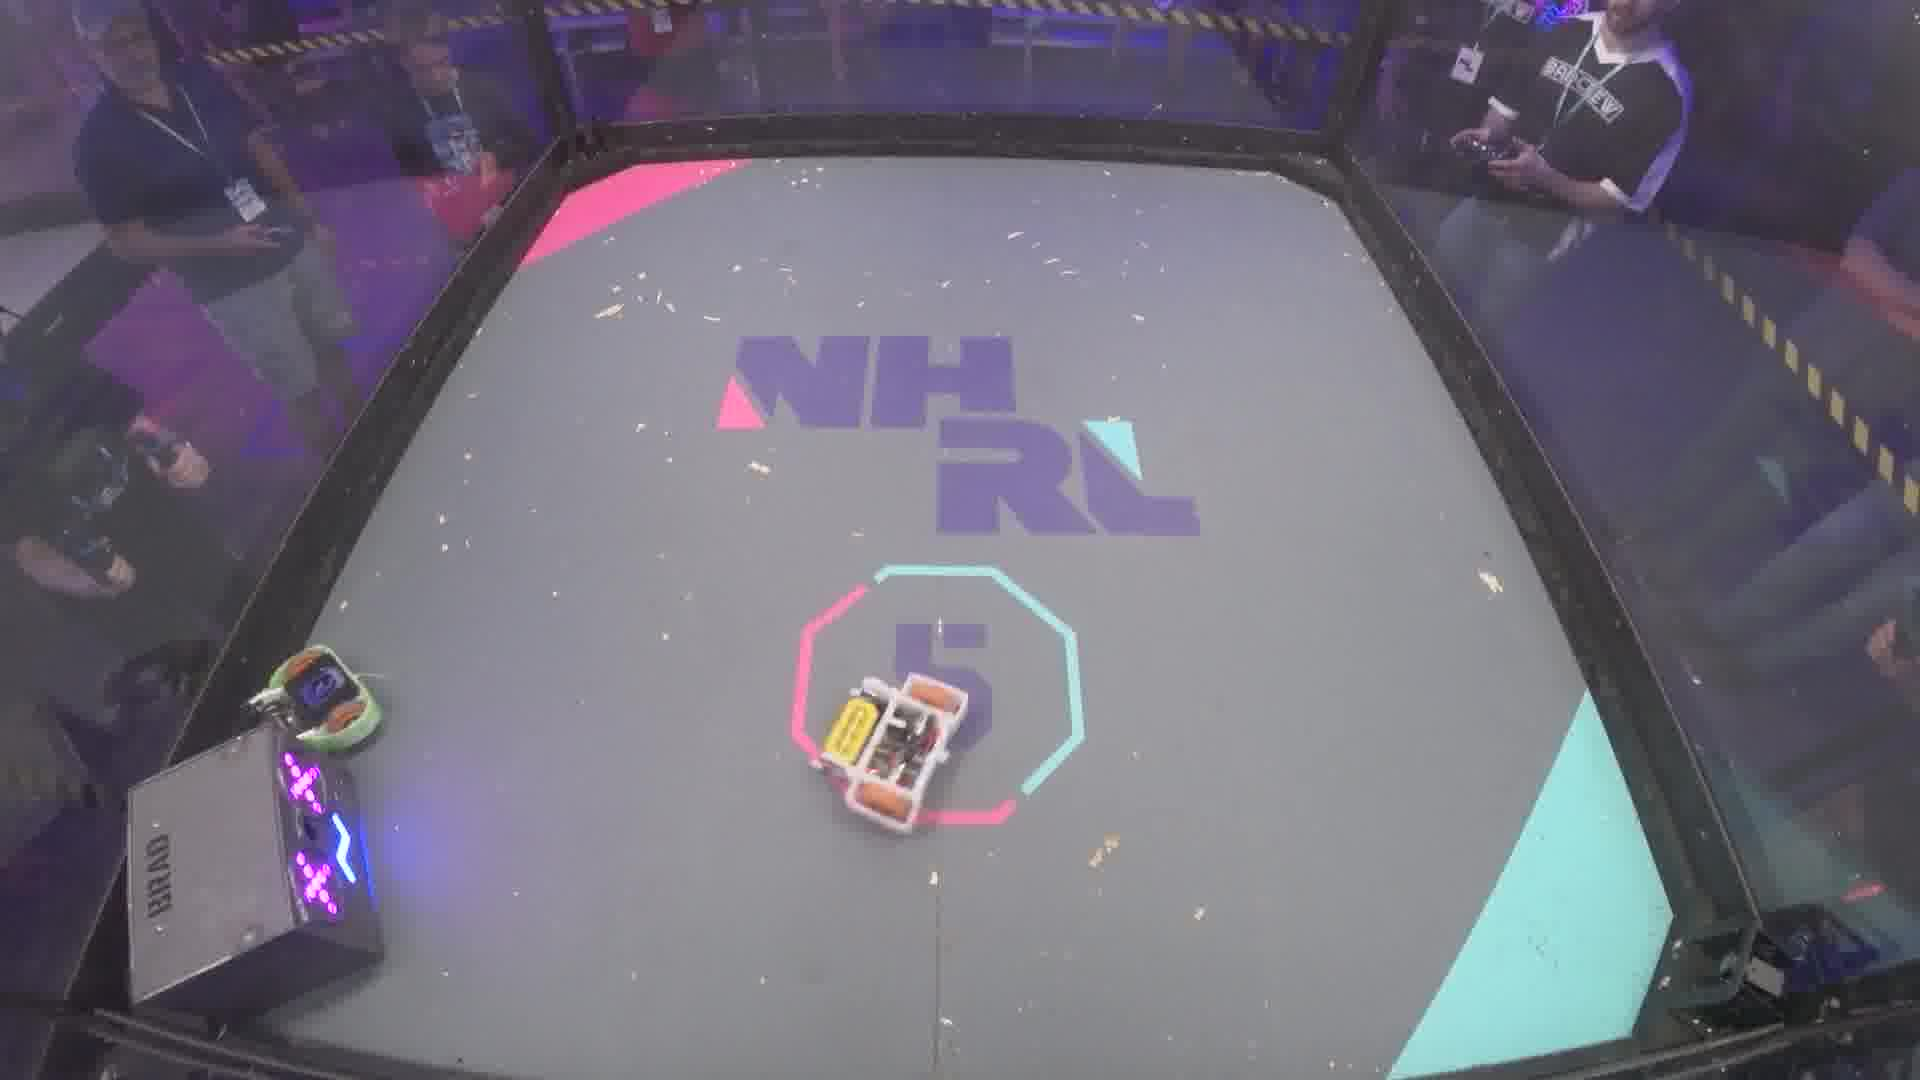combatbot: (816, 667, 965, 835), (248, 646, 386, 750)
housebot: (131, 724, 388, 1034)
